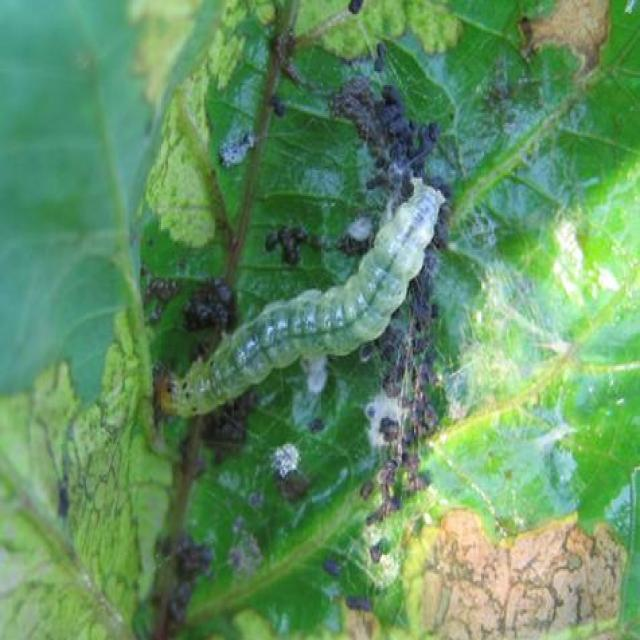BeetArmyWorm-Larva-: (156, 186, 450, 420)
